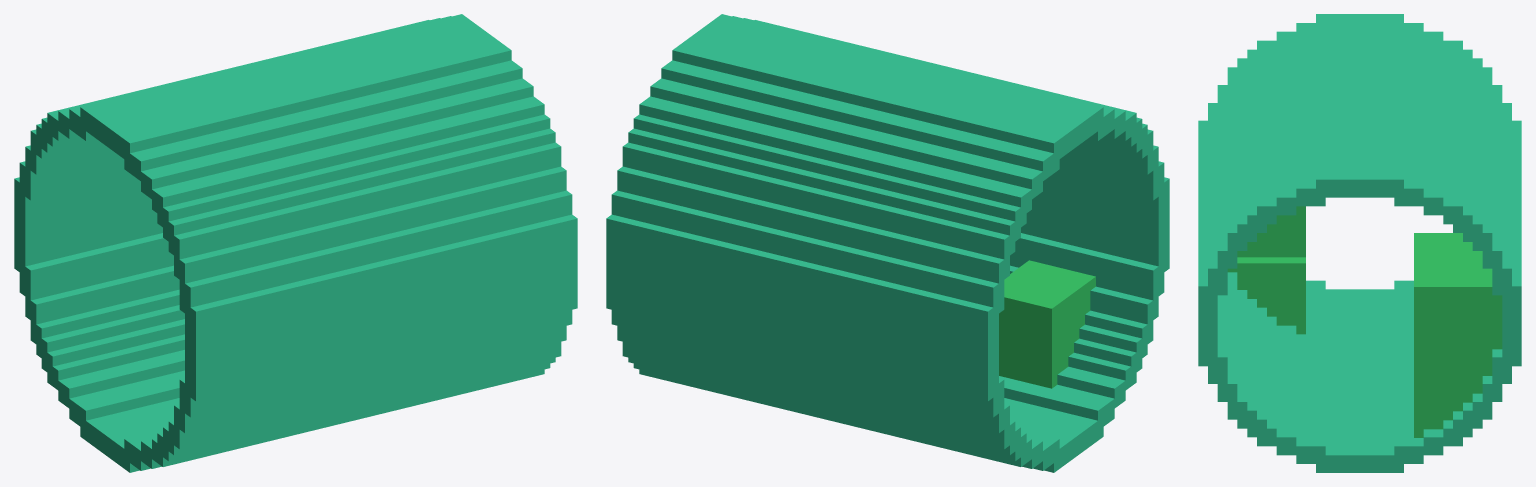
File: Tunnel.dae
3 renders of one model, left to right at view 1: azimuth 30°, elevation 25°; view 2: azimuth 150°, elevation 25°; view 3: azimuth 270°, elevation 25°, orthographic. The views are drawn at different scales.
Visible parts, largest first — view 1: Tunnel; view 2: Tunnel; view 3: Tunnel.
Boxes of the visible parts, x1,y1,x2,y2 form: Tunnel: (14,14,577,472); Tunnel: (606,14,1169,472); Tunnel: (1198,14,1521,472).
Bounding box in the file's own units: 4 × 3.3 × 3.3.
1 material, 1 textured.
